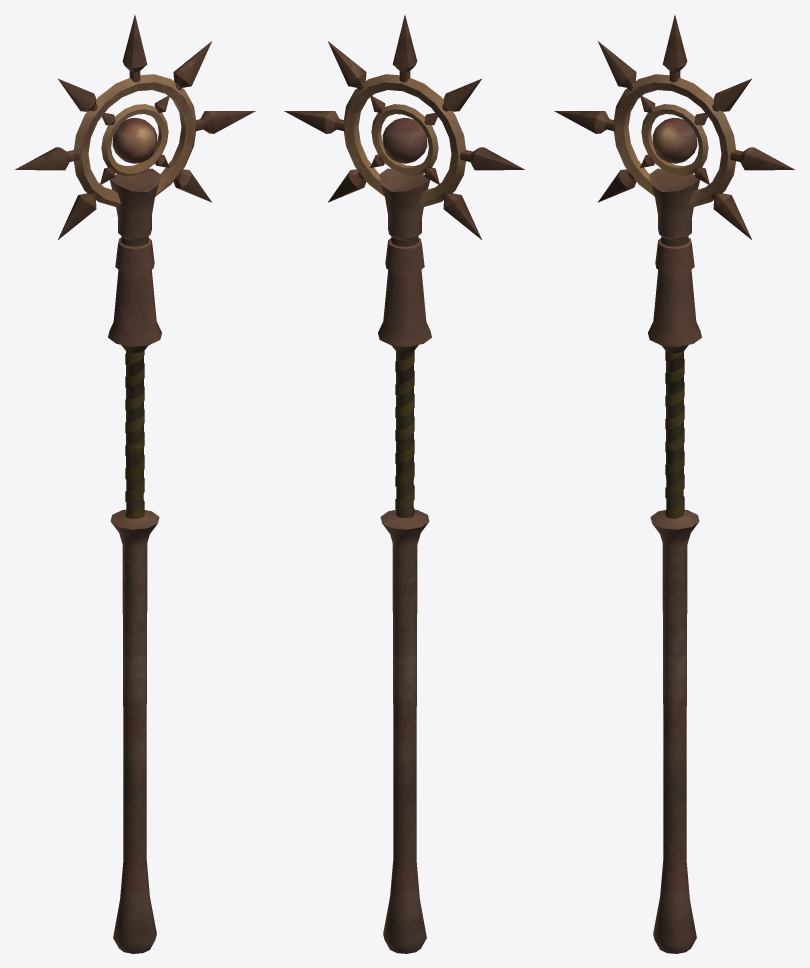
Rendered from Cleric Staff.glb.
The picture shows the model from 3 angles, left to right: view 1: azimuth 30°, elevation 25°; view 2: azimuth 150°, elevation 25°; view 3: azimuth 330°, elevation 25°; orthographic projection.
Visible parts, largest first — view 1: Cleric_Staff; view 2: Cleric_Staff; view 3: Cleric_Staff.
Boxes of the visible parts, x1,y1,x2,y2 form: Cleric_Staff: (15, 15, 255, 953); Cleric_Staff: (284, 15, 524, 953); Cleric_Staff: (554, 15, 794, 953).
Size of the model in its own units: 0.3183 by 1.17 by 0.0632.
1 material, 1 textured.
